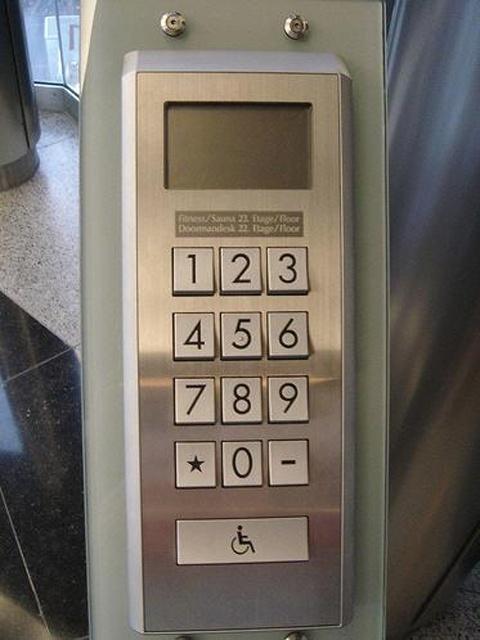-: (266, 436, 312, 488)
0: (219, 437, 266, 489)
1: (168, 244, 218, 297)
2: (217, 243, 264, 297)
3: (264, 242, 313, 296)
4: (170, 309, 218, 363)
5: (218, 308, 265, 362)
6: (264, 308, 313, 362)
7: (171, 374, 218, 426)
8: (218, 373, 265, 426)
9: (264, 373, 312, 426)
CH: (174, 514, 313, 568)
led: (159, 97, 316, 192)
s: (171, 438, 219, 490)
